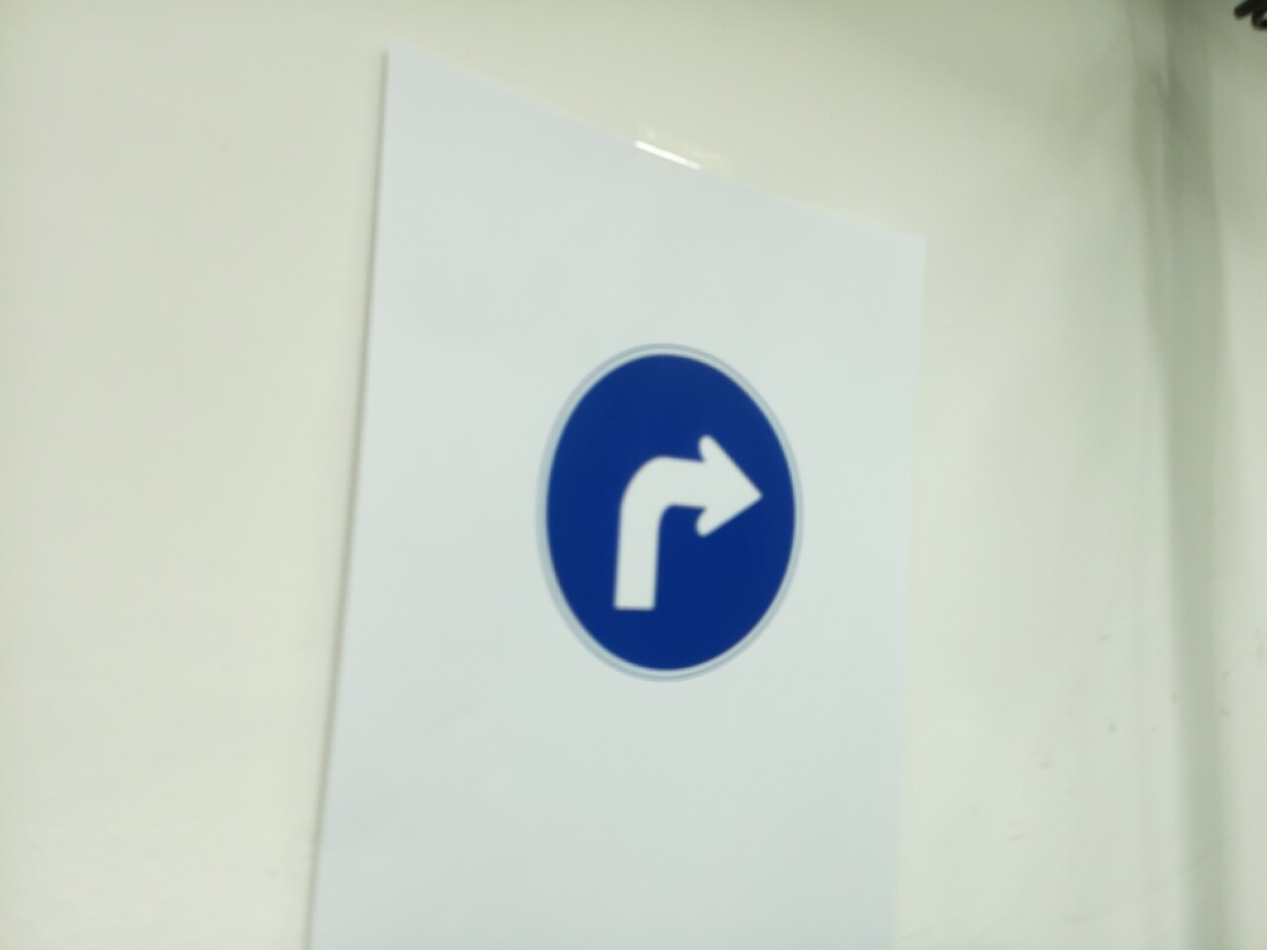right_turn: (536, 344, 805, 681)
